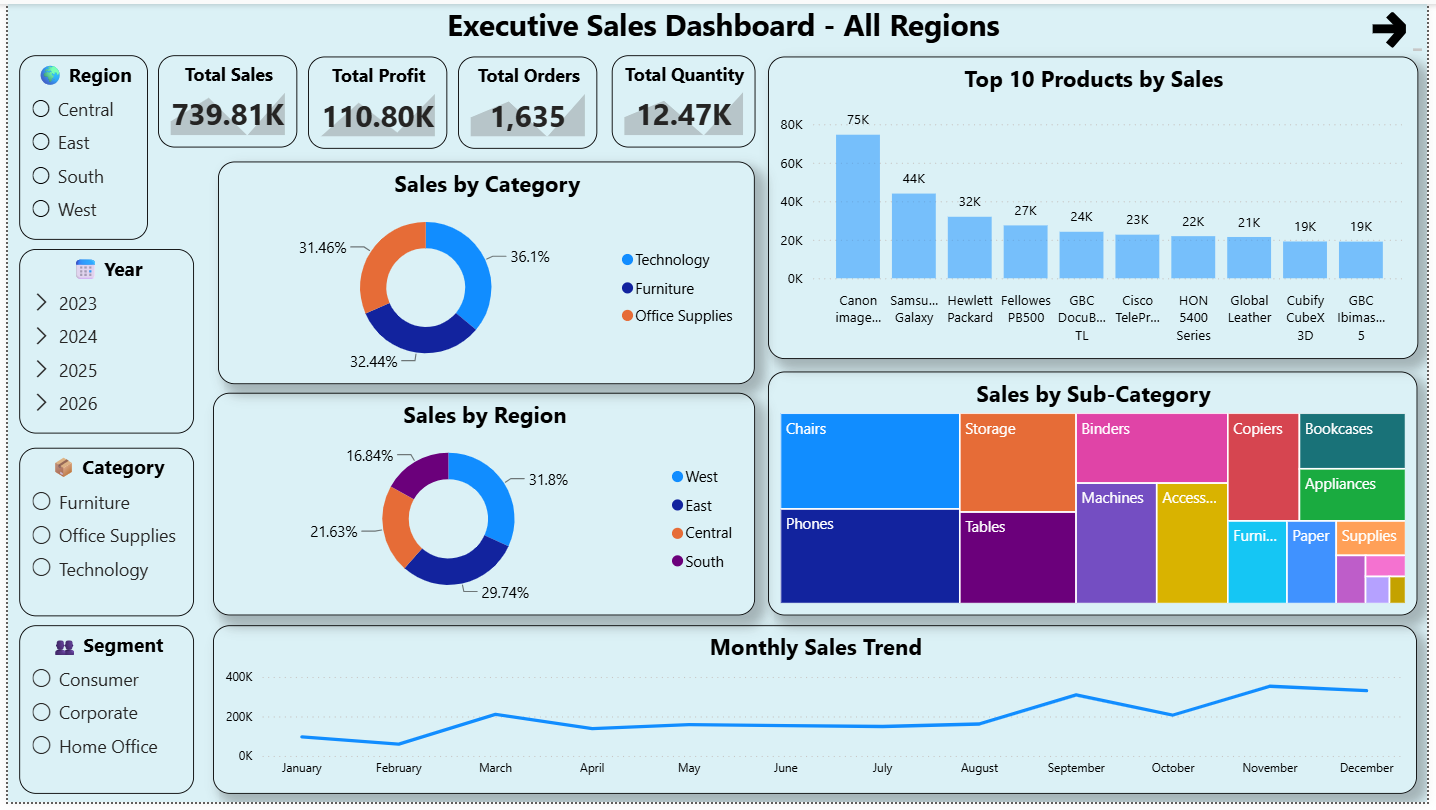

What the dashboard file says about the page in this screenshot:
{"tool":"powerbi","page":{"name":"Executive Sales","canvas":[1280,720],"ordinal":0},"visuals":[{"type":"textbox","box":[10.1,0,1269.6,47.6],"z":0},{"type":"listSlicer","title":"🌍 Region","fields":{"Values":["Orders.Region"]},"box":[9.8,46.5,116.2,166.3],"z":1000},{"type":"listSlicer","title":"📅 Year","fields":{"Values":["Orders.Order Date.Variation.Date Hierarchy.Year","Orders.Order Date.Variation.Date Hierarchy.Quarter","Orders.Order Date.Variation.Date Hierarchy.Month","Orders.Order Date.Variation.Date Hierarchy.Day"]},"box":[9.8,221.3,157.7,166.3],"z":2000},{"type":"listSlicer","title":"📦 Category","fields":{"Values":["Orders.Category"]},"box":[9.8,399.9,157.7,151.6],"z":3000},{"type":"listSlicer","title":"👥 Segment","fields":{"Values":["Orders.Segment"]},"box":[9.8,560.1,157.7,151.6],"z":4000},{"type":"donutChart","title":"Sales by Category","fields":{"Category":["Orders.Category"],"Y":["Returns.Total Sales"]},"box":[189.5,141.8,484.2,200.5],"z":5000},{"type":"clusteredColumnChart","title":"Top 10 Products by Sales","fields":{"Y":["Returns.Total Sales"],"Category":["Orders.Short Product Name"]},"box":[685.3,47.3,586.1,272.8],"z":6000},{"type":"donutChart","title":"Sales by Region","fields":{"Category":["Orders.Region"],"Y":["Returns.Total Sales"]},"box":[184.6,351,489.1,200.5],"z":7000},{"type":"treemap","title":"Sales by Sub-Category","fields":{"Values":["Returns.Total Sales"],"Group":["Orders.Sub-Category"]},"box":[684.8,331.4,585.7,220.1],"z":8000},{"type":"lineChart","title":"Monthly Sales Trend","fields":{"Category":["Orders.Order Date.Variation.Date Hierarchy.Month"],"Y":["Returns.Total Sales"]},"box":[184.6,560.1,1085.9,151.6],"z":9000},{"type":"kpi","title":"Total Sales","fields":{"Indicator":["Returns.Total Sales"],"TrendLine":["Orders.Region"]},"box":[135.7,46.5,126,83.2],"z":10000},{"type":"kpi","title":"Total Profit","fields":{"Indicator":["Returns.Total Profit"],"TrendLine":["Orders.Region"]},"box":[270.2,47.7,126,83.2],"z":11000},{"type":"kpi","title":"Total Orders","fields":{"Indicator":["Returns.Total Orders"],"TrendLine":["Orders.Region"]},"box":[406,47.7,126,83.2],"z":12000},{"type":"kpi","title":"Total Quantity","fields":{"TrendLine":["Orders.Region"],"Indicator":["Returns.Total Quantity"]},"box":[544.2,46.5,129.6,83.2],"z":13000},{"type":"actionButton","box":[1217.5,3.8,53.8,40],"z":14000}]}

Visuals, with their boxes in screenshot pixels (x1, y1, x2, y2), scaled from the page's 1280x720 canvas onto the 1436x810 screenshot:
textbox: x1=11, y1=0, x2=1435, y2=54
"🌍 Region" listSlicer: x1=11, y1=52, x2=141, y2=239
"📅 Year" listSlicer: x1=11, y1=249, x2=188, y2=436
"📦 Category" listSlicer: x1=11, y1=450, x2=188, y2=620
"👥 Segment" listSlicer: x1=11, y1=630, x2=188, y2=801
"Sales by Category" donutChart: x1=213, y1=160, x2=756, y2=385
"Top 10 Products by Sales" clusteredColumnChart: x1=769, y1=53, x2=1426, y2=360
"Sales by Region" donutChart: x1=207, y1=395, x2=756, y2=620
"Sales by Sub-Category" treemap: x1=768, y1=373, x2=1425, y2=620
"Monthly Sales Trend" lineChart: x1=207, y1=630, x2=1425, y2=801
"Total Sales" kpi: x1=152, y1=52, x2=294, y2=146
"Total Profit" kpi: x1=303, y1=54, x2=444, y2=147
"Total Orders" kpi: x1=455, y1=54, x2=597, y2=147
"Total Quantity" kpi: x1=611, y1=52, x2=756, y2=146
actionButton: x1=1366, y1=4, x2=1426, y2=49
